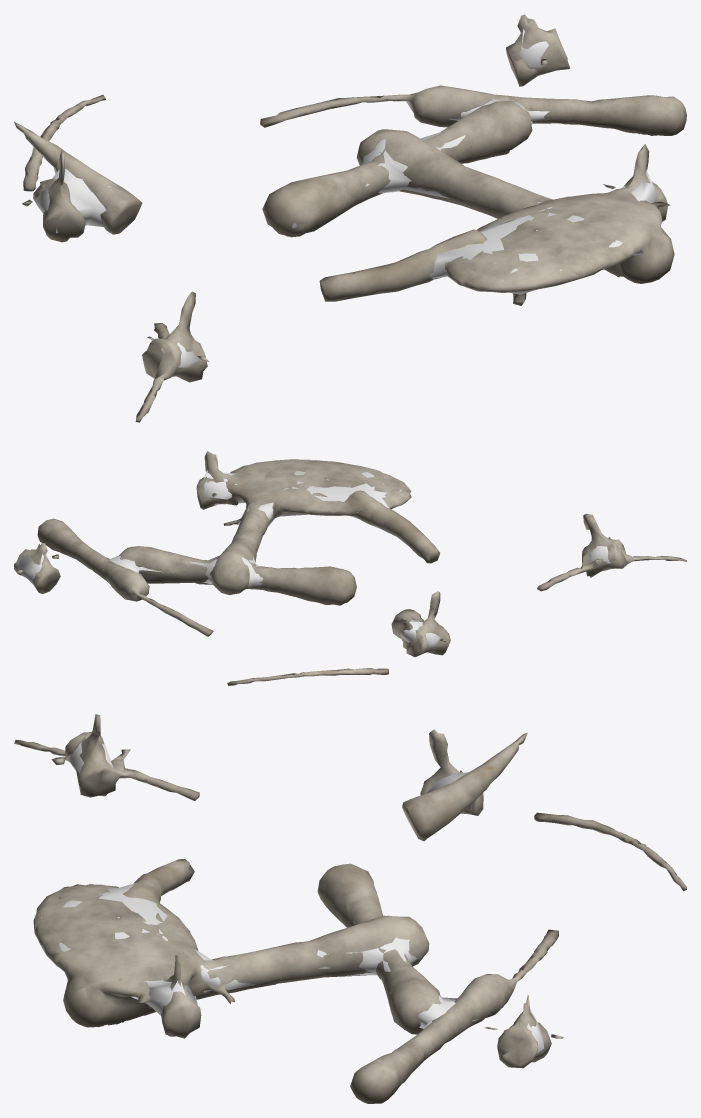
File: PROP_P2_BoneScatter_B.fbx
The picture shows the model from 3 angles, top to bottom: view 1: azimuth 30°, elevation 25°; view 2: azimuth 150°, elevation 25°; view 3: azimuth 270°, elevation 25°; orthographic projection. The views are drawn at different scales.
Parts seen in each view (by area): view 1: PROP_P2_BoneScatter_B_LOD0, PROP_P2_BoneScatter_B_COL; view 2: PROP_P2_BoneScatter_B_LOD0, PROP_P2_BoneScatter_B_COL; view 3: PROP_P2_BoneScatter_B_LOD0, PROP_P2_BoneScatter_B_COL.
Part boxes in pixels (bbox=[...]): PROP_P2_BoneScatter_B_LOD0: bbox=[14, 14, 686, 422]; PROP_P2_BoneScatter_B_COL: bbox=[36, 29, 657, 368]; PROP_P2_BoneScatter_B_LOD0: bbox=[14, 451, 686, 685]; PROP_P2_BoneScatter_B_COL: bbox=[17, 460, 619, 652]; PROP_P2_BoneScatter_B_LOD0: bbox=[14, 714, 686, 1103]; PROP_P2_BoneScatter_B_COL: bbox=[41, 742, 544, 1056].
Size of what is drawn, in the model's own units: 3.68 by 0.4645 by 2.98.
